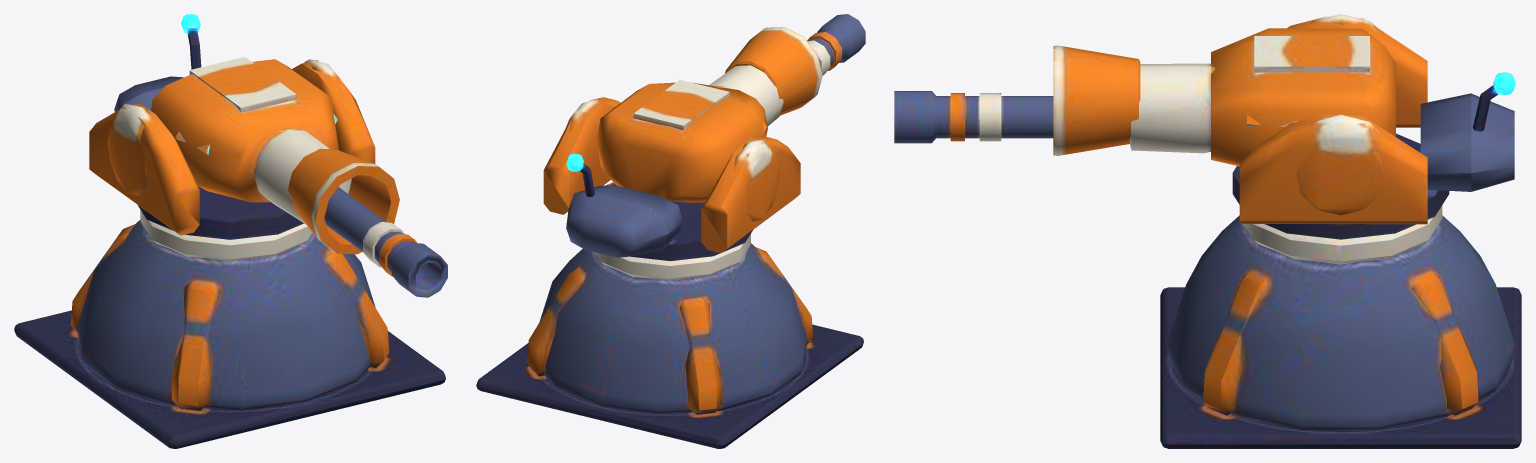
The model's file is R4W_Basic_LOD1.glb.
The picture shows the model from 3 angles, left to right: view 1: azimuth 30°, elevation 25°; view 2: azimuth 150°, elevation 25°; view 3: azimuth 270°, elevation 25°; orthographic projection. The views are drawn at different scales.
Visible parts, largest first — view 1: R4W_Basic_LOD1; view 2: R4W_Basic_LOD1; view 3: R4W_Basic_LOD1.
Boxes of the visible parts, bbox=[...] form: R4W_Basic_LOD1: bbox=[14, 14, 447, 448]; R4W_Basic_LOD1: bbox=[476, 14, 865, 448]; R4W_Basic_LOD1: bbox=[894, 14, 1521, 448].
Size of the model in its own units: 0.5 by 0.4967 by 0.868.
Materials: 4 (4 with a texture image).
